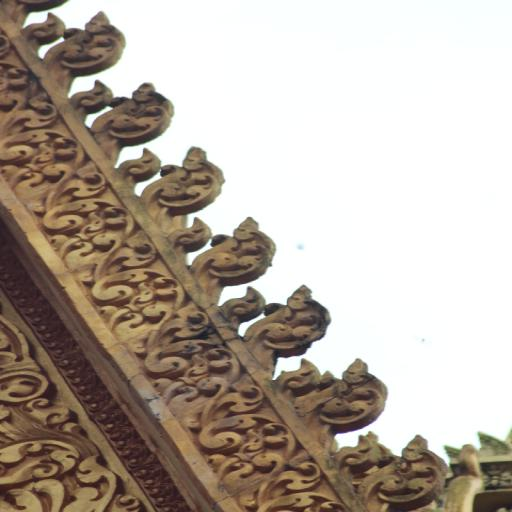la: (2, 357, 104, 511), (197, 410, 330, 512), (154, 340, 258, 444), (94, 242, 179, 355), (49, 159, 129, 277), (2, 75, 69, 195)
lua: (44, 10, 126, 84), (255, 290, 343, 355), (201, 218, 279, 284), (374, 441, 452, 506), (99, 86, 181, 146), (156, 148, 228, 213), (308, 363, 386, 423)
